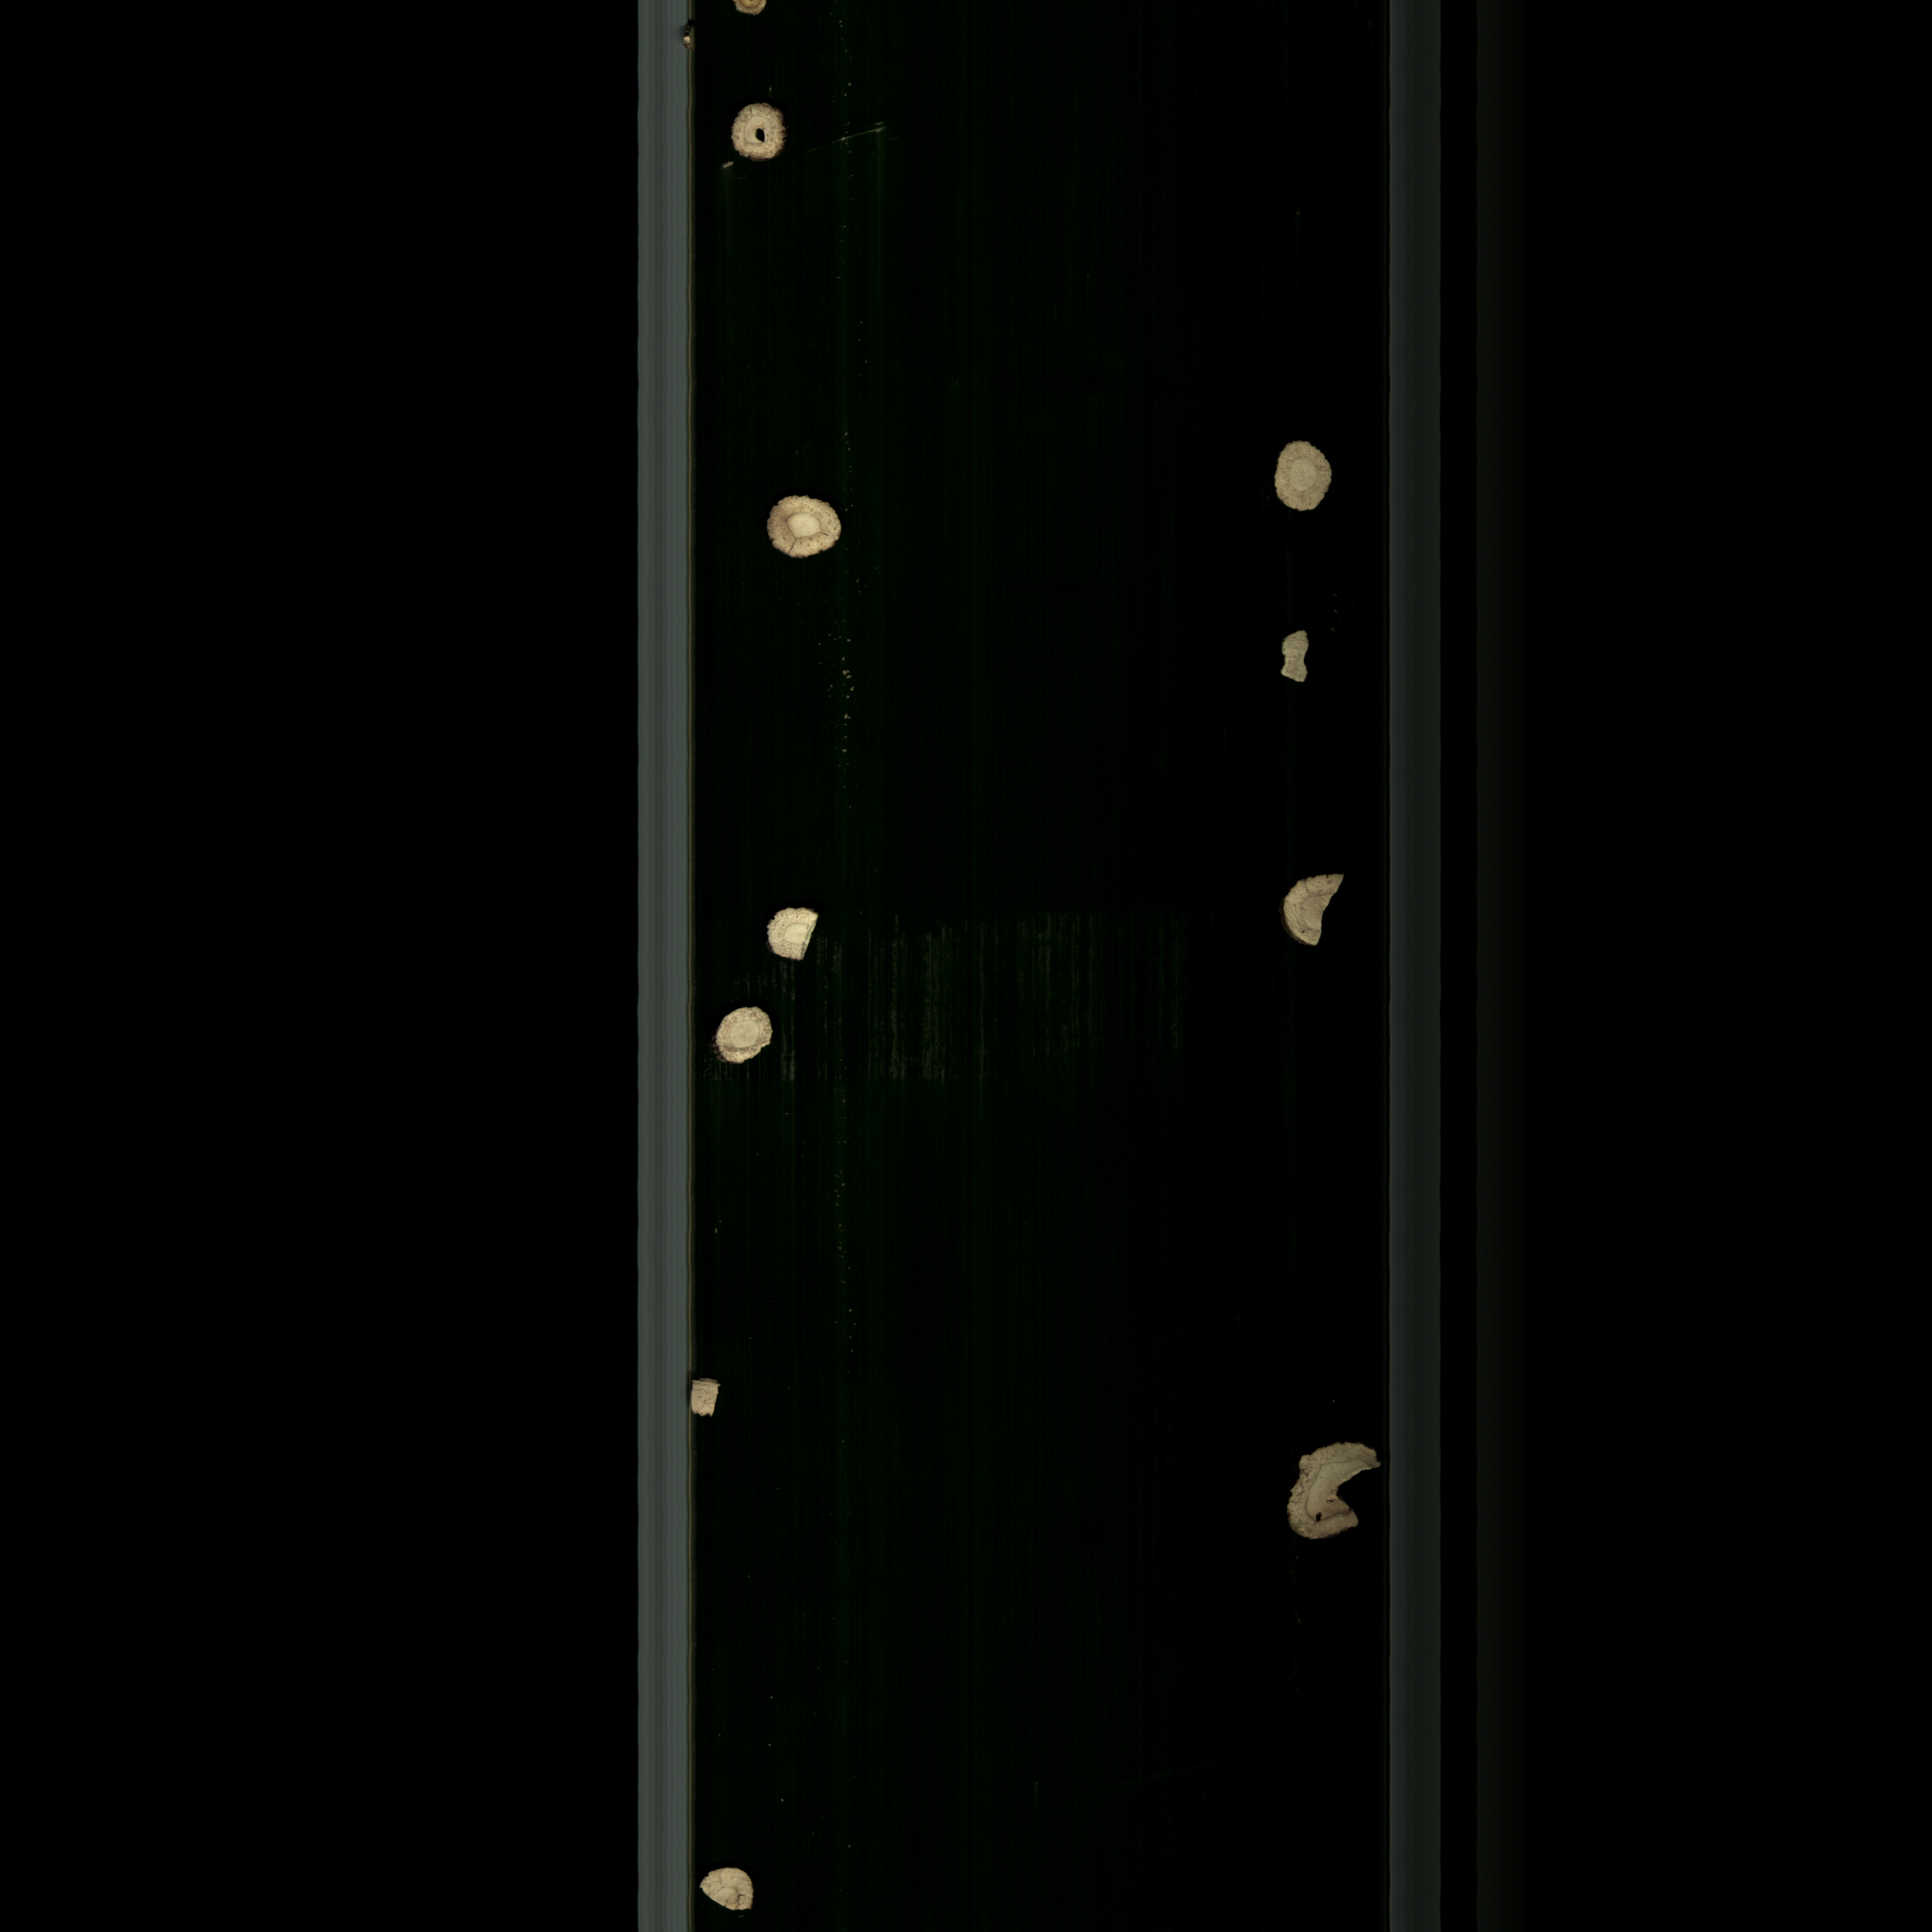debris: (1265, 856, 1361, 962), (761, 899, 839, 968), (694, 1859, 766, 1921)
distortion: (1272, 623, 1318, 694)
dreg: (679, 1368, 732, 1426)
moldy: (1279, 1433, 1385, 1559), (757, 492, 847, 566), (717, 90, 794, 170), (704, 996, 786, 1072)
